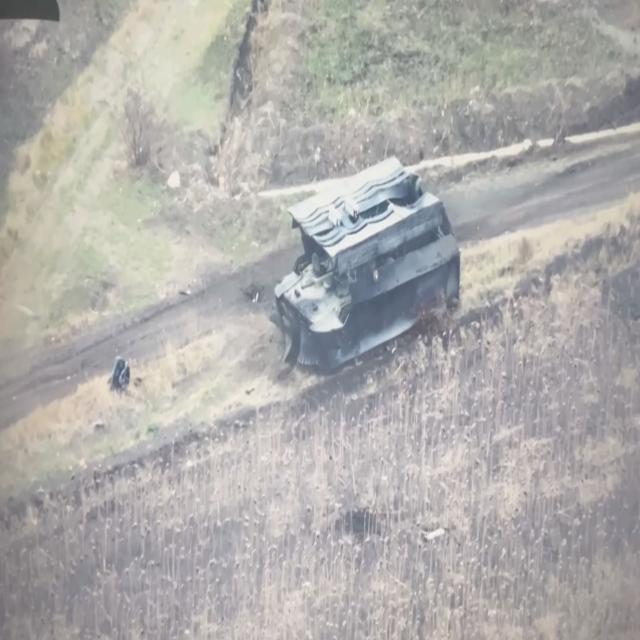vehicle: (272, 158, 460, 375)
